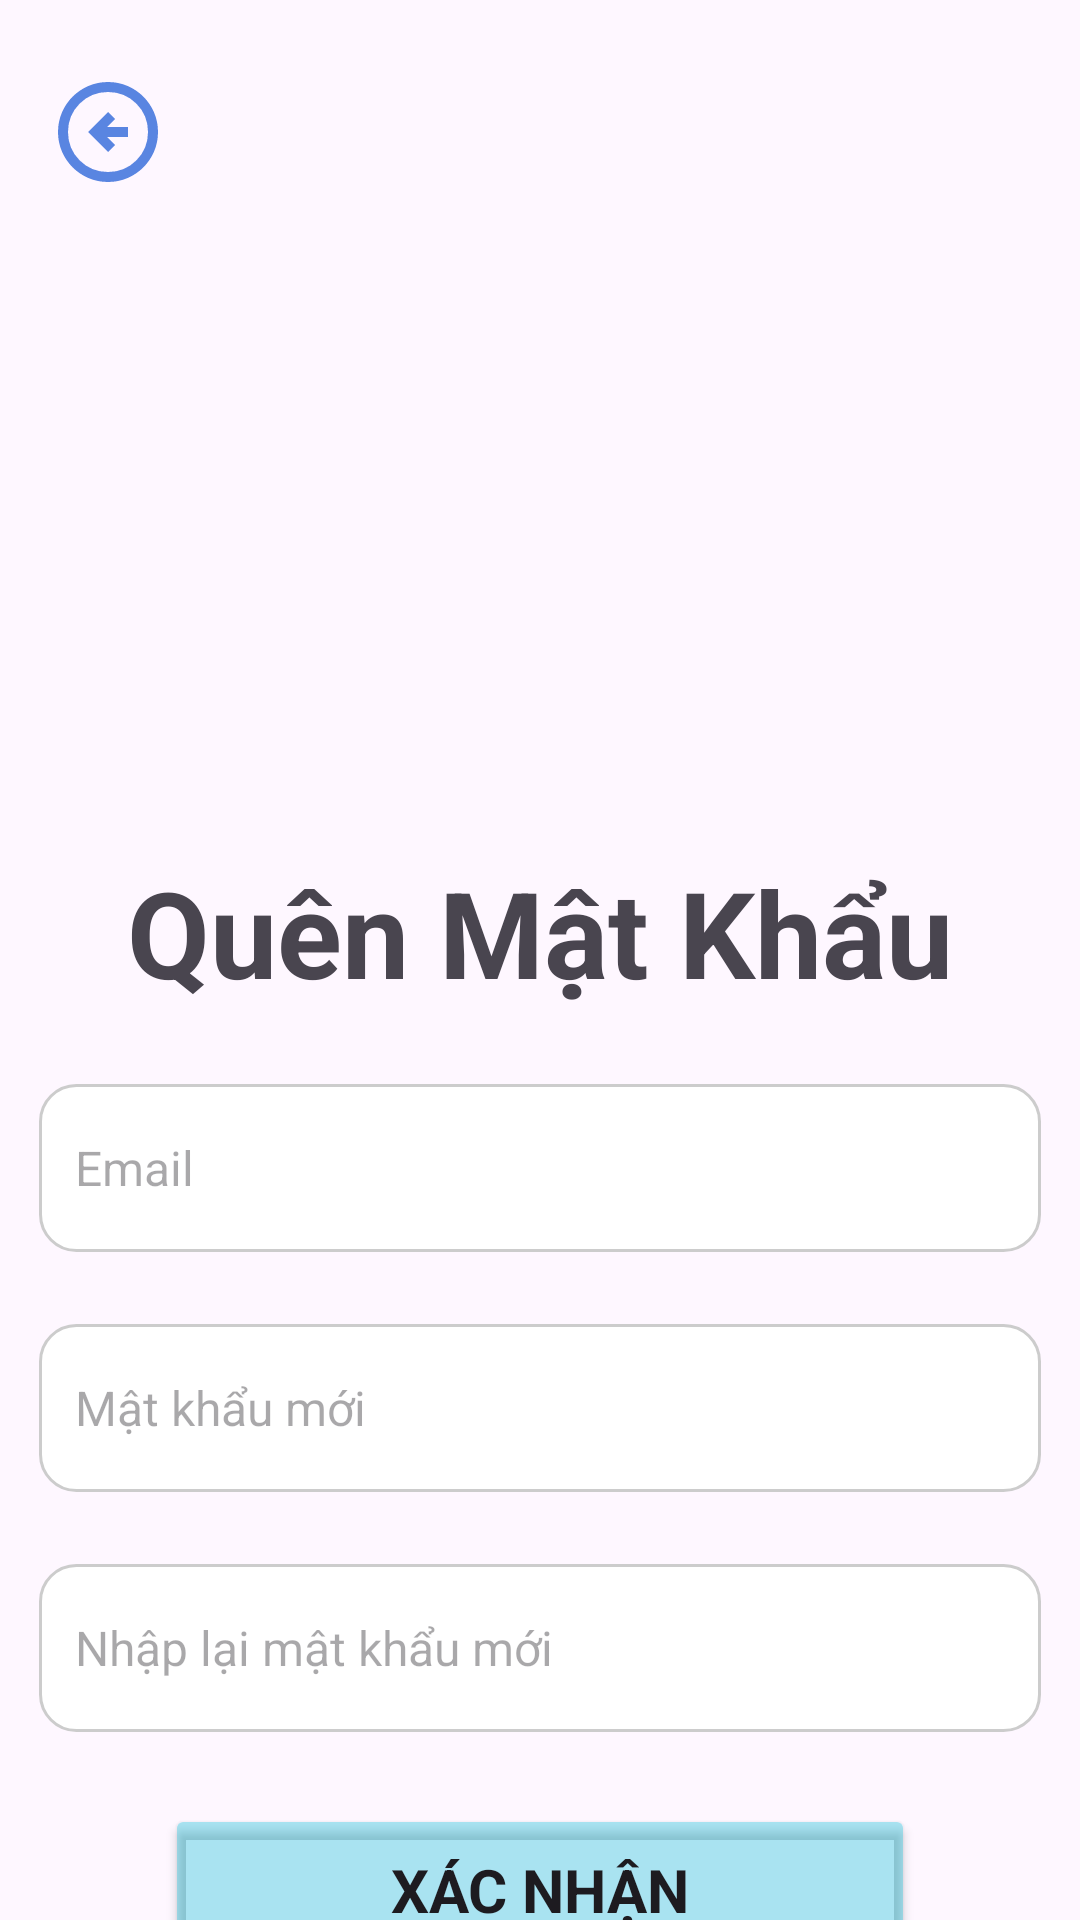

Point at icon controls on the screen. Image size 1080px x 1920px, points as (x=x, y=y).
Nút quay lại: (x=108, y=132)
